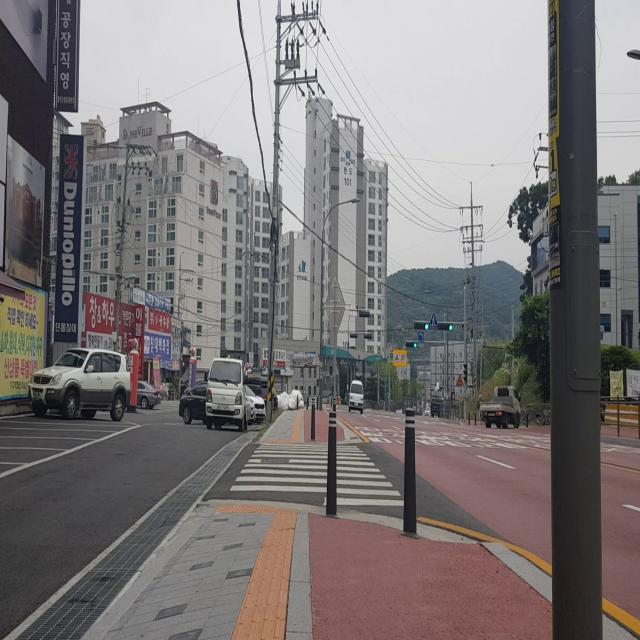횡단보도: (227, 442, 404, 509)
